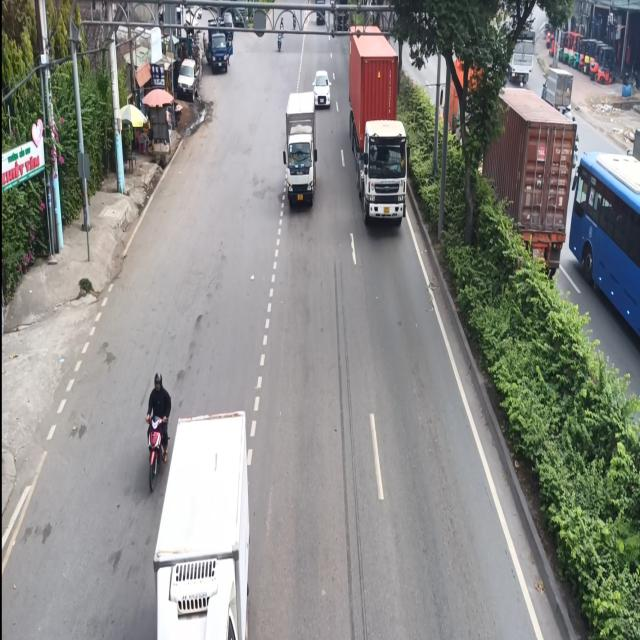car: (312, 62, 333, 113)
motor: (141, 366, 171, 489)
truck: (344, 21, 412, 236), (283, 87, 319, 213)
